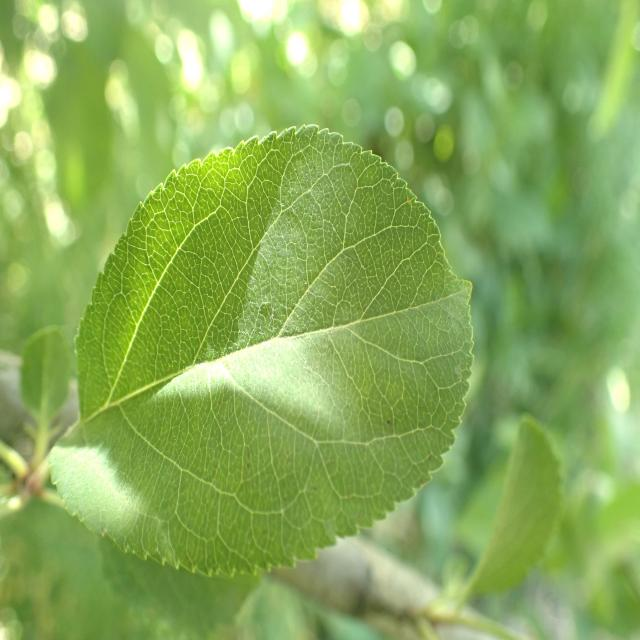healthy: (48, 123, 476, 580)
